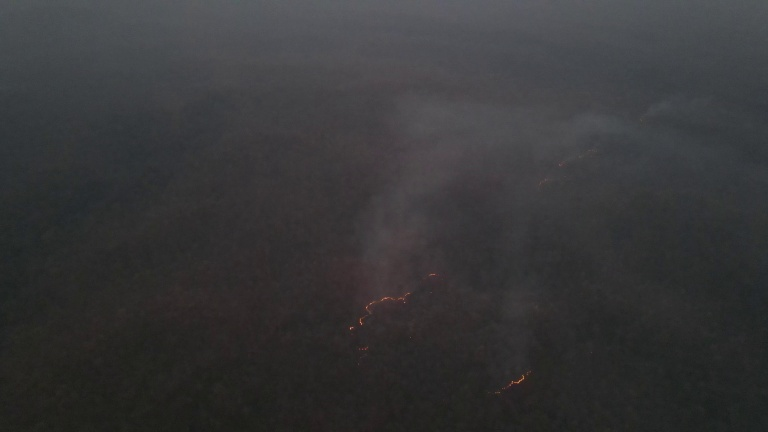fire: (346, 292, 414, 352), (495, 368, 532, 399), (420, 269, 441, 283)
smoke: (351, 100, 495, 279)
